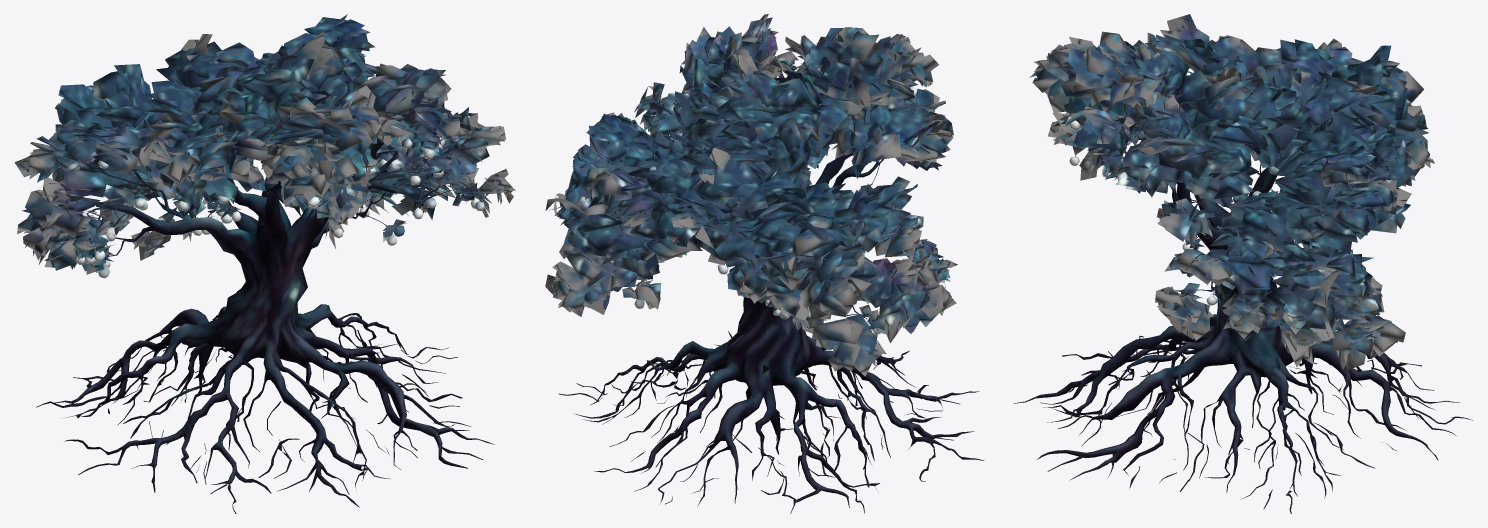
File: arvore.glb
The picture shows the model from 3 angles, left to right: view 1: azimuth 30°, elevation 25°; view 2: azimuth 150°, elevation 25°; view 3: azimuth 270°, elevation 25°; orthographic projection. The views are drawn at different scales.
Parts seen in each view (by area): view 1: geometry_0; view 2: geometry_0; view 3: geometry_0.
Boxes of the visible parts, box(x1,y1,x2,y2) form: geometry_0: box(14, 14, 515, 513); geometry_0: box(545, 14, 984, 513); geometry_0: box(1013, 14, 1473, 513).
Bounding box in the file's own units: 0.9565 × 0.8125 × 0.8994.
Materials: 1 (1 with a texture image).
